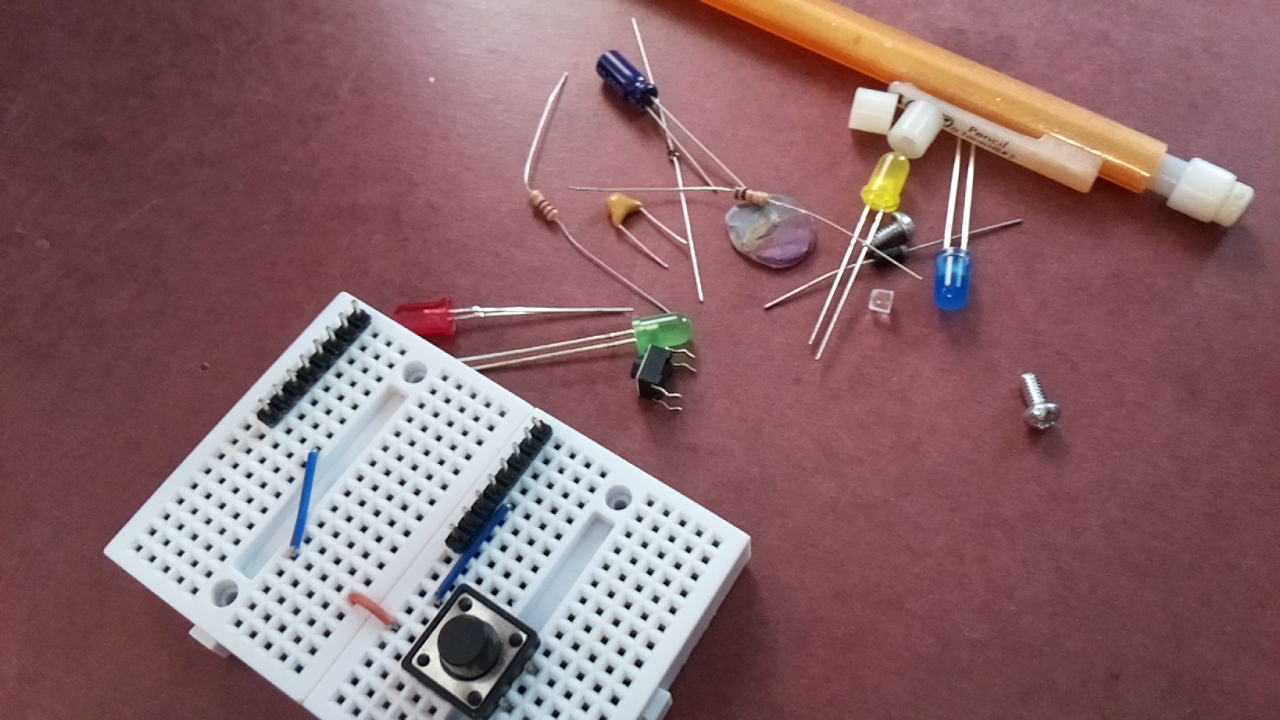button: (398, 580, 543, 720), (628, 342, 680, 403)
capacitor: (593, 46, 661, 119), (603, 190, 650, 234)
diode: (868, 241, 911, 270), (663, 131, 683, 164)
led: (860, 150, 915, 214), (391, 295, 462, 341), (627, 310, 700, 354), (932, 249, 974, 314)
resistor: (520, 185, 563, 227), (728, 182, 775, 210)
